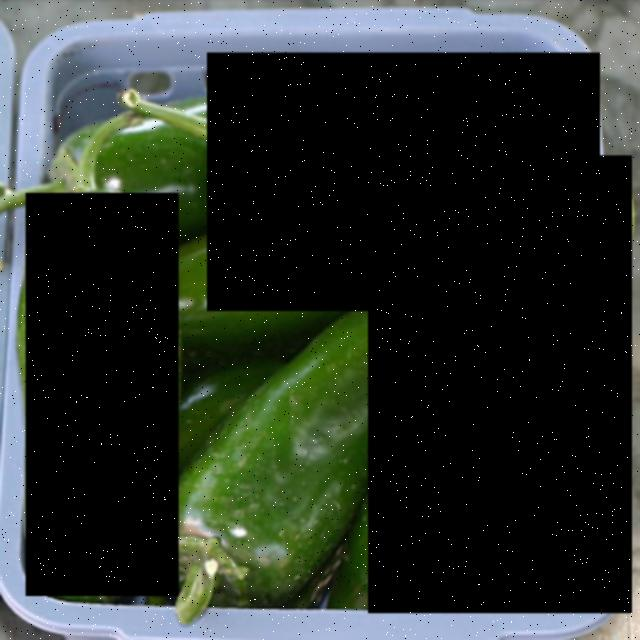Chili_Pepper: (368, 156, 632, 614), (207, 53, 600, 311), (25, 193, 178, 596)
